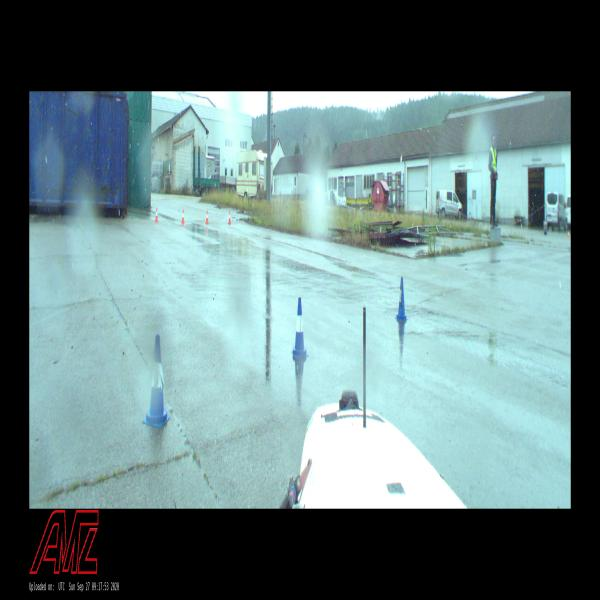blue_cone: (142, 334, 170, 429), (292, 298, 308, 358), (395, 277, 408, 320)
orange_cone: (154, 208, 158, 222), (205, 210, 208, 224), (228, 211, 231, 224), (182, 209, 184, 223)
